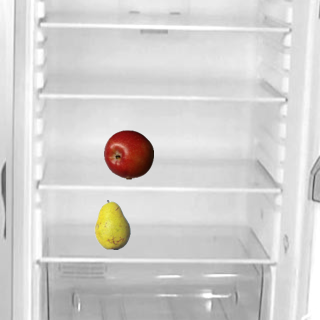Apple Braeburn: (103, 129, 153, 179)
Pear Monster: (87, 199, 137, 249)
